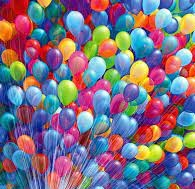Balloon: (57, 80, 78, 105), (66, 11, 84, 35), (133, 37, 154, 57), (17, 134, 37, 154), (130, 61, 149, 82), (27, 1, 44, 24), (76, 112, 94, 133), (15, 15, 33, 36), (93, 90, 109, 113), (59, 108, 76, 129), (26, 85, 41, 108), (98, 38, 117, 56), (7, 85, 25, 104), (12, 151, 31, 169), (54, 156, 71, 176), (46, 48, 62, 69), (155, 8, 171, 29), (115, 53, 130, 75), (31, 61, 48, 80), (165, 55, 182, 74), (115, 14, 134, 31), (115, 31, 131, 51), (10, 61, 26, 81), (113, 113, 128, 134), (170, 77, 188, 94), (146, 98, 163, 116), (180, 14, 195, 34), (123, 83, 139, 101), (43, 129, 58, 148), (33, 153, 48, 172), (149, 67, 165, 84), (91, 137, 107, 154), (43, 95, 58, 113), (31, 109, 46, 127), (1, 112, 15, 131), (69, 57, 85, 73), (162, 36, 178, 52), (123, 163, 139, 179), (165, 137, 182, 152), (178, 111, 195, 126), (176, 171, 193, 186), (125, 1, 143, 15), (122, 143, 137, 159), (142, 1, 160, 14), (83, 69, 97, 85), (1, 21, 12, 41), (109, 134, 123, 149), (106, 160, 120, 175)
